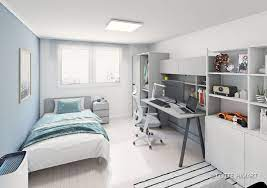Bed: (22, 96, 110, 172)
Chair: (129, 82, 166, 150)
Table: (141, 93, 210, 168)
